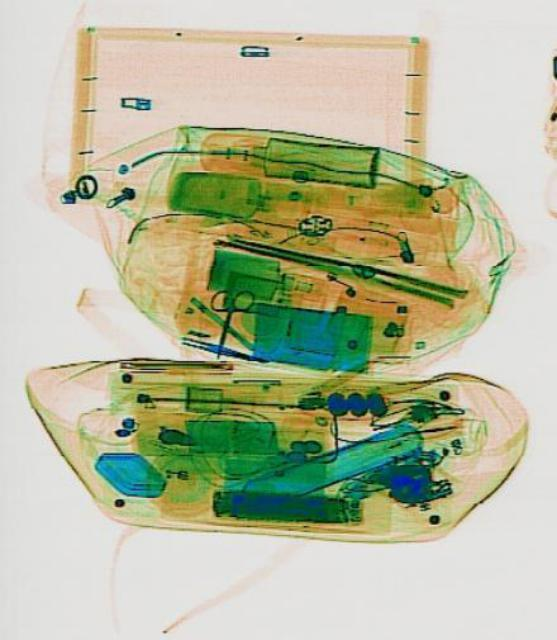Scissors: (195, 280, 254, 362)
